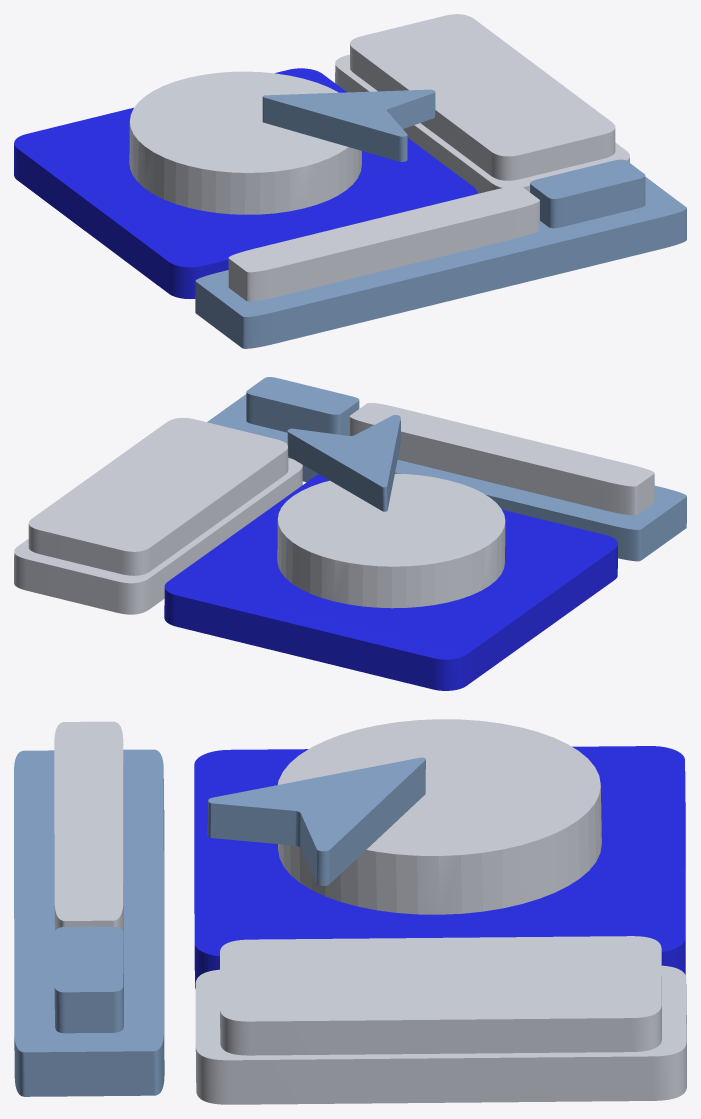
Rendered from design-icon.glb.
3 views of the same model, one above another, from view 1: azimuth 30°, elevation 25°; view 2: azimuth 150°, elevation 25°; view 3: azimuth 270°, elevation 25° (orthographic). The views are drawn at different scales.
Parts seen in each view (by area): view 1: Rectangle.004, Merged Geometry.001, Ellipse.001, Rectangle.007, Rectangle.005, Pointer.001, Rectangle.006; view 2: Rectangle.004, Merged Geometry.001, Ellipse.001, Rectangle.005, Rectangle.007, Pointer.001, Rectangle.006; view 3: Merged Geometry.001, Rectangle.004, Ellipse.001, Rectangle.007, Pointer.001, Rectangle.005, Rectangle.006.
Boxes of the visible parts, x1,y1,x2,y2 form: Rectangle.004: (14,68,477,298); Merged Geometry.001: (335,14,629,193); Ellipse.001: (129,71,361,214); Rectangle.007: (195,177,686,348); Rectangle.005: (228,186,539,301); Pointer.001: (262,89,435,161); Rectangle.006: (530,159,645,228); Rectangle.004: (164,474,617,690); Merged Geometry.001: (14,418,302,614); Ellipse.001: (277,473,505,608); Rectangle.005: (349,403,654,515); Rectangle.007: (207,394,686,561); Pointer.001: (287,415,401,511); Rectangle.006: (246,377,359,435); Merged Geometry.001: (195,936,686,1104); Rectangle.004: (194,746,685,988); Ellipse.001: (278,719,601,914); Rectangle.007: (14,749,164,1096); Pointer.001: (207,757,425,885); Rectangle.005: (54,721,123,943); Rectangle.006: (54,926,123,1033).
Bounding box in the file's own units: 9 × 2.03 × 8.24.
